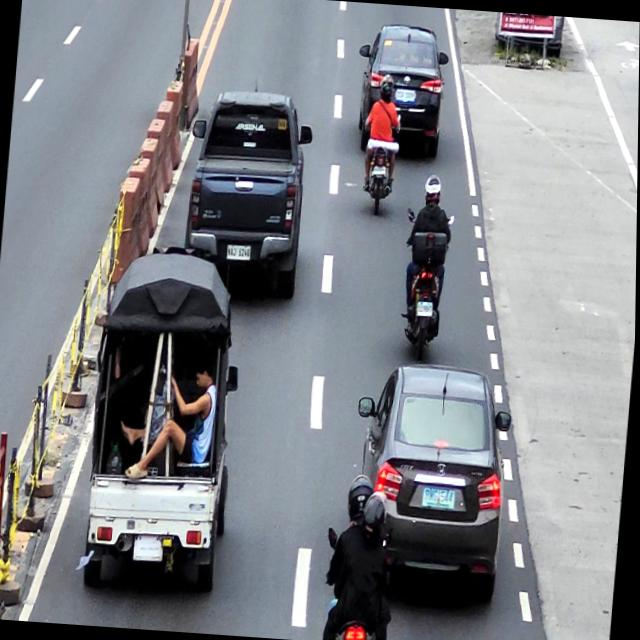Car: (343, 361, 515, 610), (179, 86, 316, 303), (351, 21, 451, 160)
License-Plate: (422, 487, 456, 510), (135, 534, 165, 559), (225, 245, 252, 262), (394, 88, 416, 105), (417, 300, 434, 316), (372, 164, 386, 176)
Motorcycle: (397, 206, 456, 356), (360, 112, 401, 218)
Truck: (78, 260, 249, 600)
